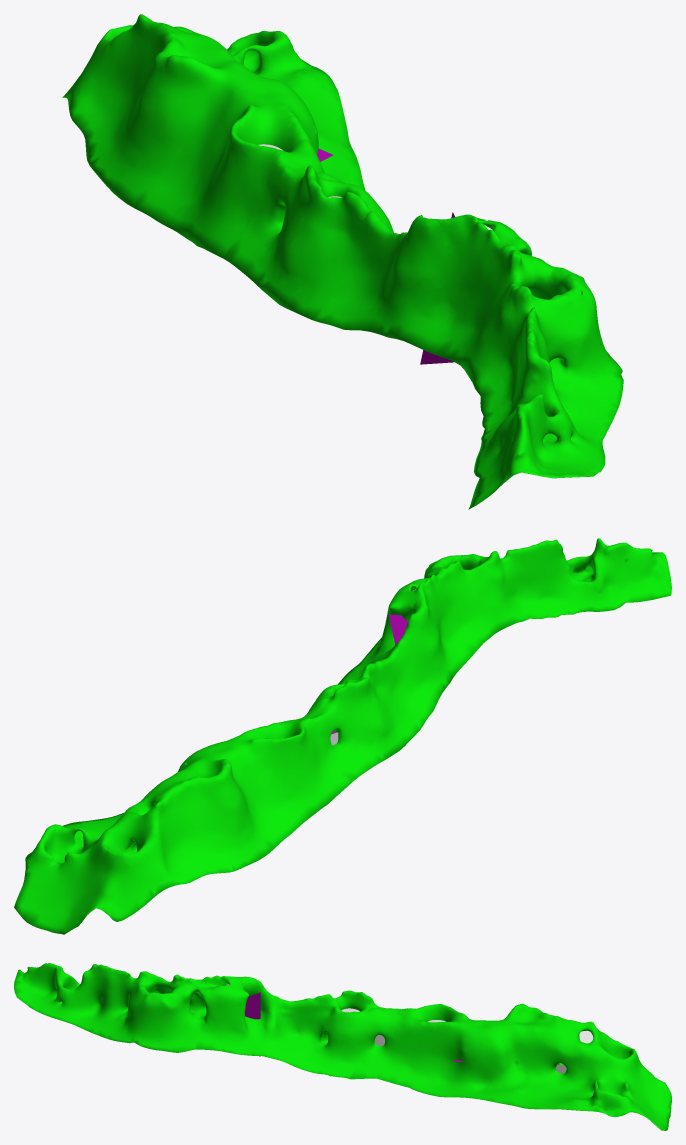
The model's file is zuhak_portals_blender45_3.fbx.
3 renders of one model, top to bottom at view 1: azimuth 30°, elevation 25°; view 2: azimuth 150°, elevation 25°; view 3: azimuth 270°, elevation 25°, orthographic. The views are drawn at different scales.
Parts seen in each view (by area): view 1: UTM_castle_raw; view 2: UTM_castle_raw; view 3: UTM_castle_raw, BSP_001.
Boxes of the visible parts, x1=… form: UTM_castle_raw: x1=62, y1=14, x2=623, y2=509; UTM_castle_raw: x1=14, y1=538, x2=671, y2=934; UTM_castle_raw: x1=14, y1=963, x2=671, y2=1130; BSP_001: x1=245, y1=992, x2=260, y2=1056.
Size of what is drawn, in the model's own units: 3855 by 10922 by 2159.
